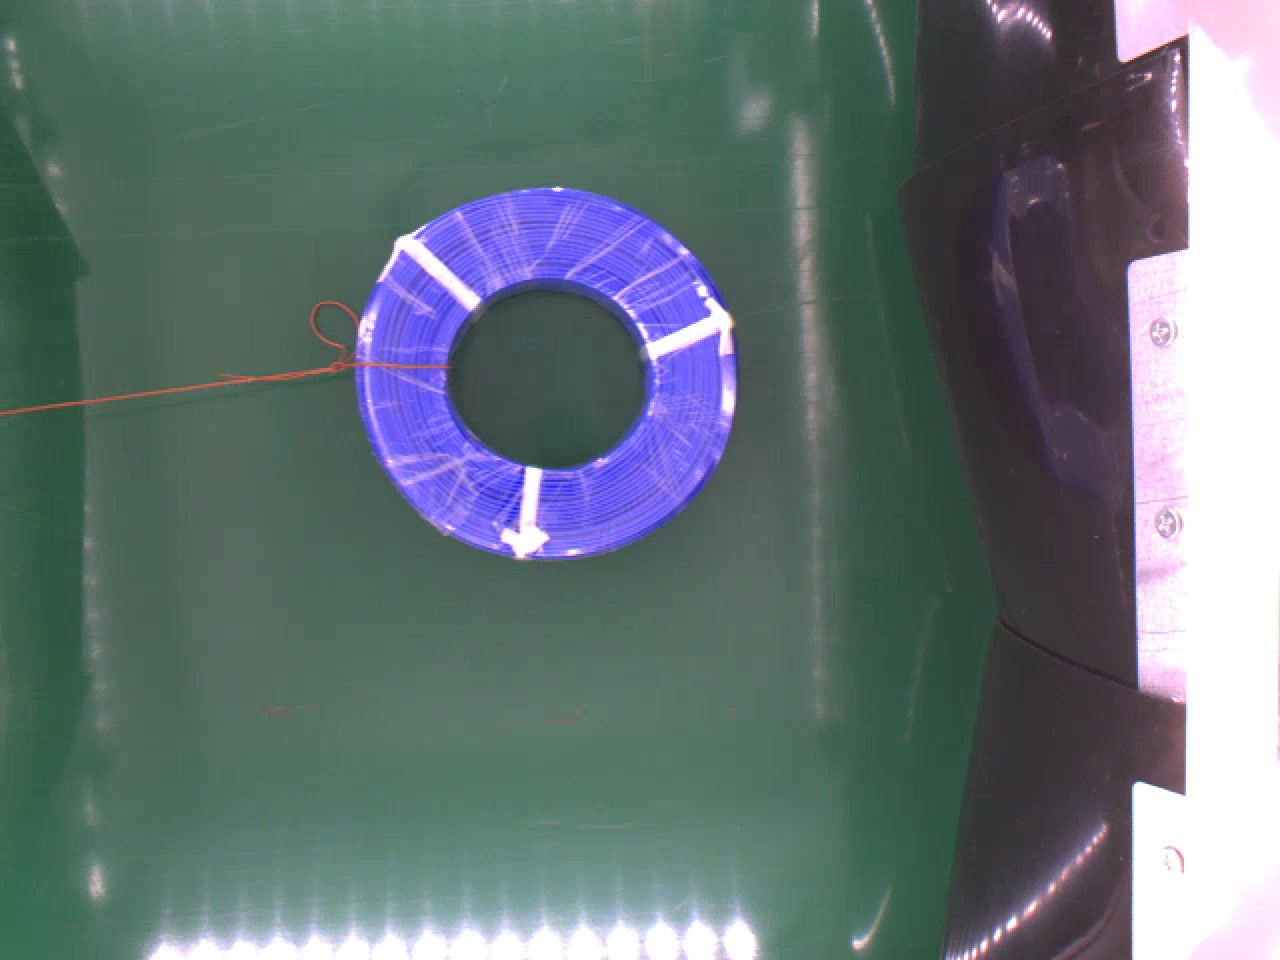blue: (351, 185, 743, 563)
